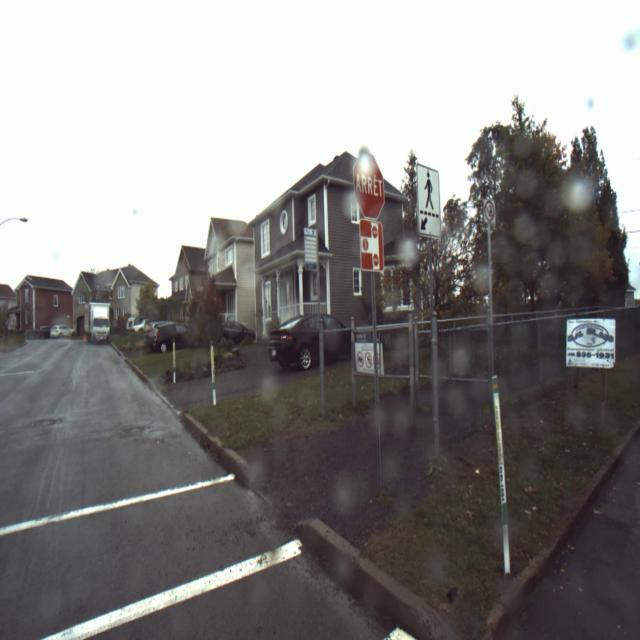truck: (80, 292, 110, 350)
